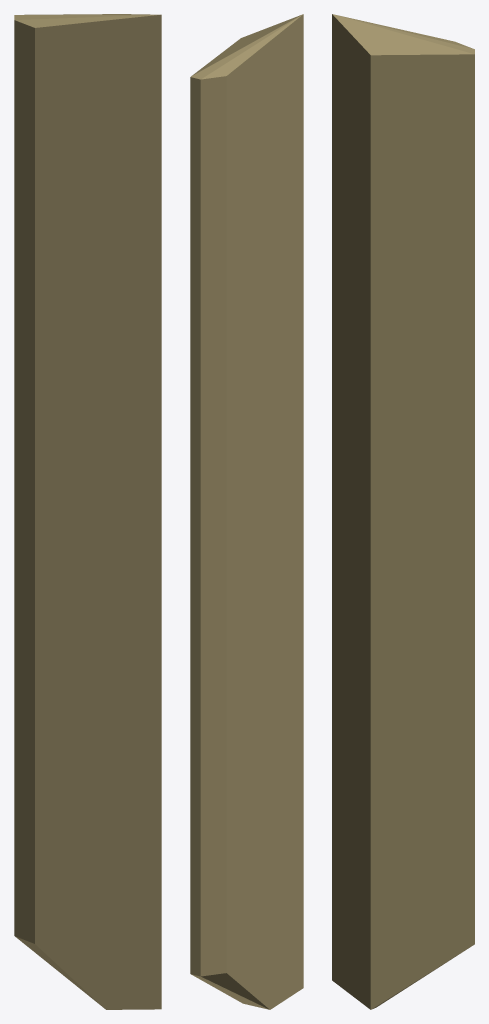
3 views of the same model, side by side, from view 1: azimuth 90°, elevation 25°; view 2: azimuth 150°, elevation 25°; view 3: azimuth 270°, elevation 25° (orthographic). The views are drawn at different scales.
Size of the model in its own units: 1.41 by 30.65 by 4.07.
